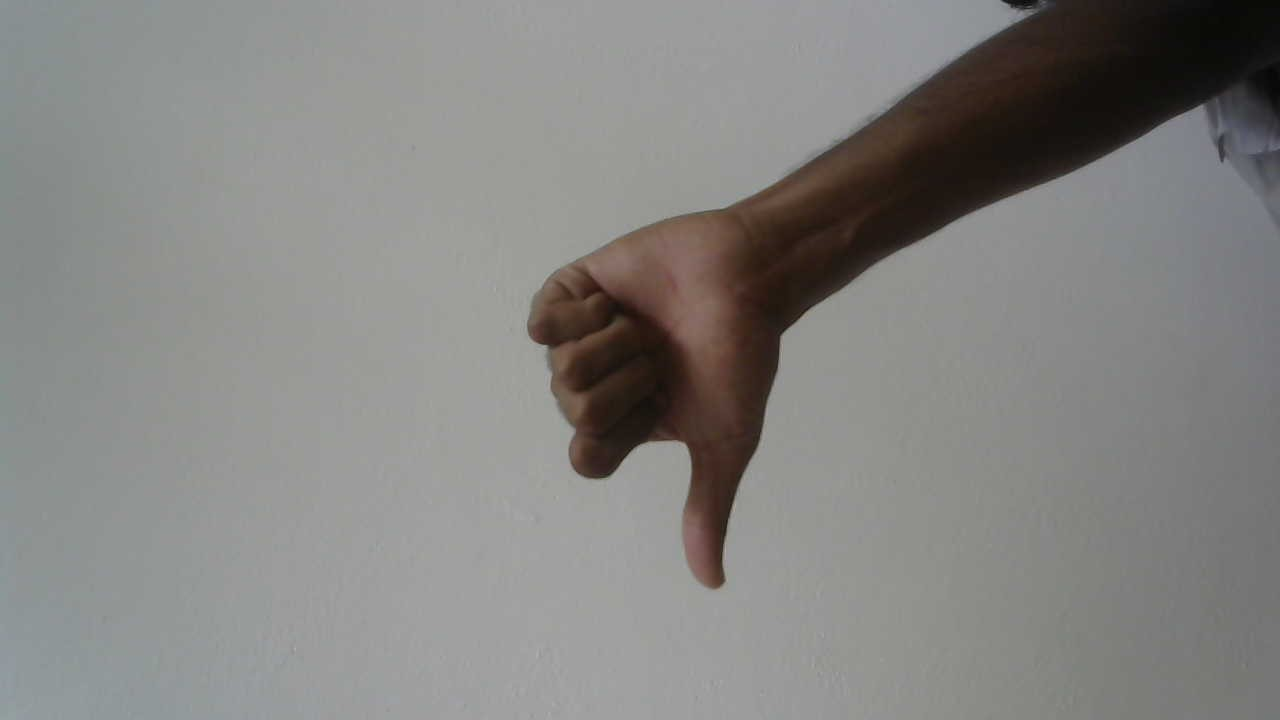thumbsdown: (512, 192, 809, 601)
